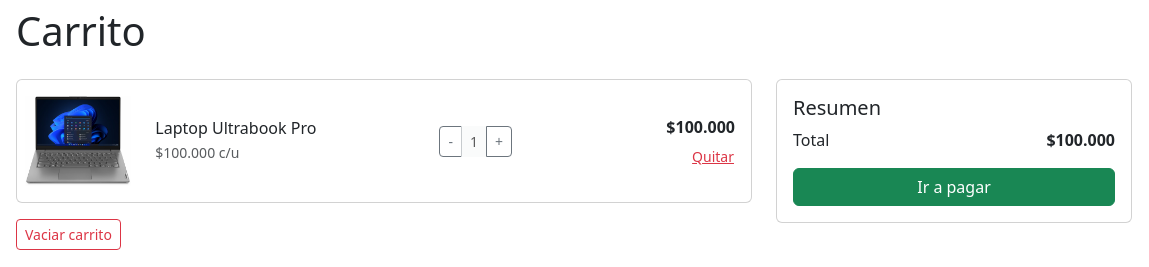
Scenario: Carrito › vacía el carrito al presionar "Vaciar carrito"
What coordinates should you click on to do the following:
click the button "Vaciar carrito"
I would click on:
 (68, 235)
Its box is left=16, top=219, right=121, bottom=250.
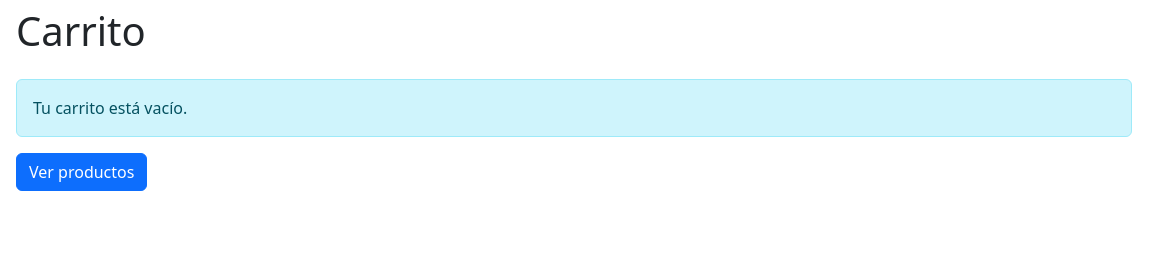
Check: the text "Tu carrito está vacío." is shown, box left=16, top=79, right=1132, bottom=137
